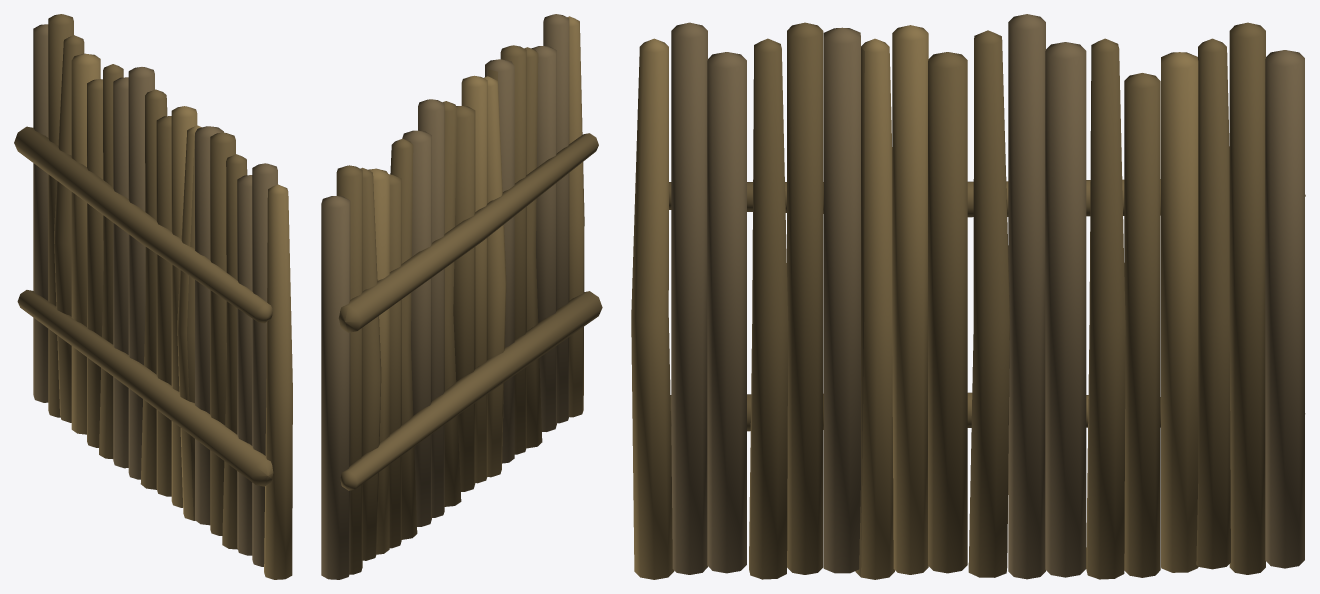
Rendered from palissade.fbx.
3 views of the same model, side by side, from view 1: azimuth 30°, elevation 25°; view 2: azimuth 150°, elevation 25°; view 3: azimuth 270°, elevation 25° (orthographic). The views are drawn at different scales.
Visible parts, largest first — view 1: palisade, palisade.001, palisade.002; view 2: palisade, palisade.002, palisade.001; view 3: palisade, palisade.001.
Part boxes in pixels (<box>): palisade: <box>33,14,292,579</box>; palisade.001: <box>14,126,272,323</box>; palisade.002: <box>17,290,273,486</box>; palisade: <box>321,14,584,579</box>; palisade.002: <box>340,291,602,490</box>; palisade.001: <box>338,133,598,332</box>; palisade: <box>631,14,1304,579</box>; palisade.001: <box>669,179,1305,217</box>.
Size of the model in its own units: 399 by 3379 by 3705.
